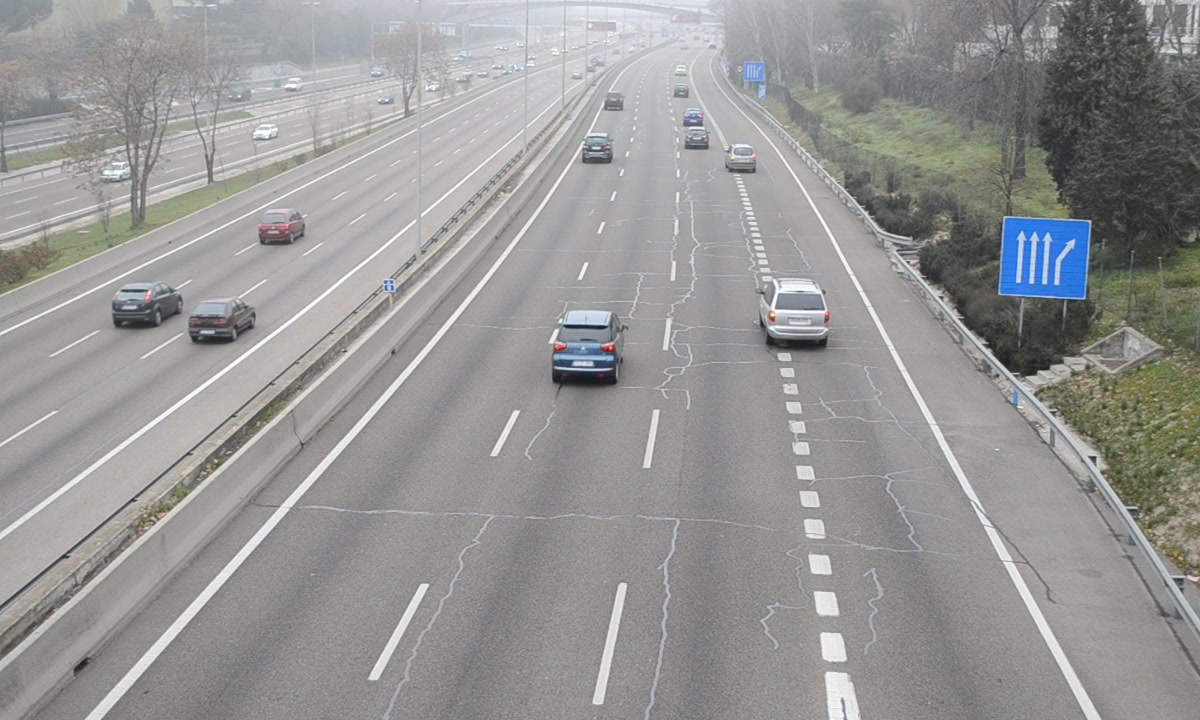car: (551, 311, 622, 380), (761, 278, 829, 340), (581, 132, 614, 164), (725, 142, 756, 174), (684, 126, 711, 150)
